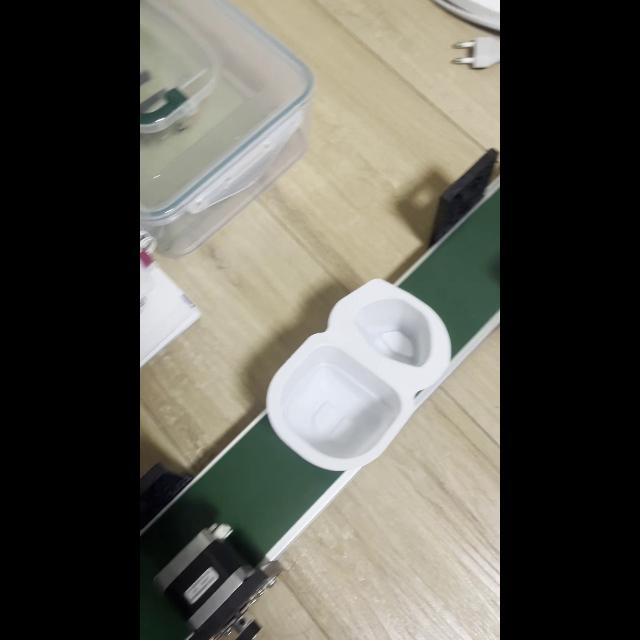clean: (280, 292, 440, 462)
